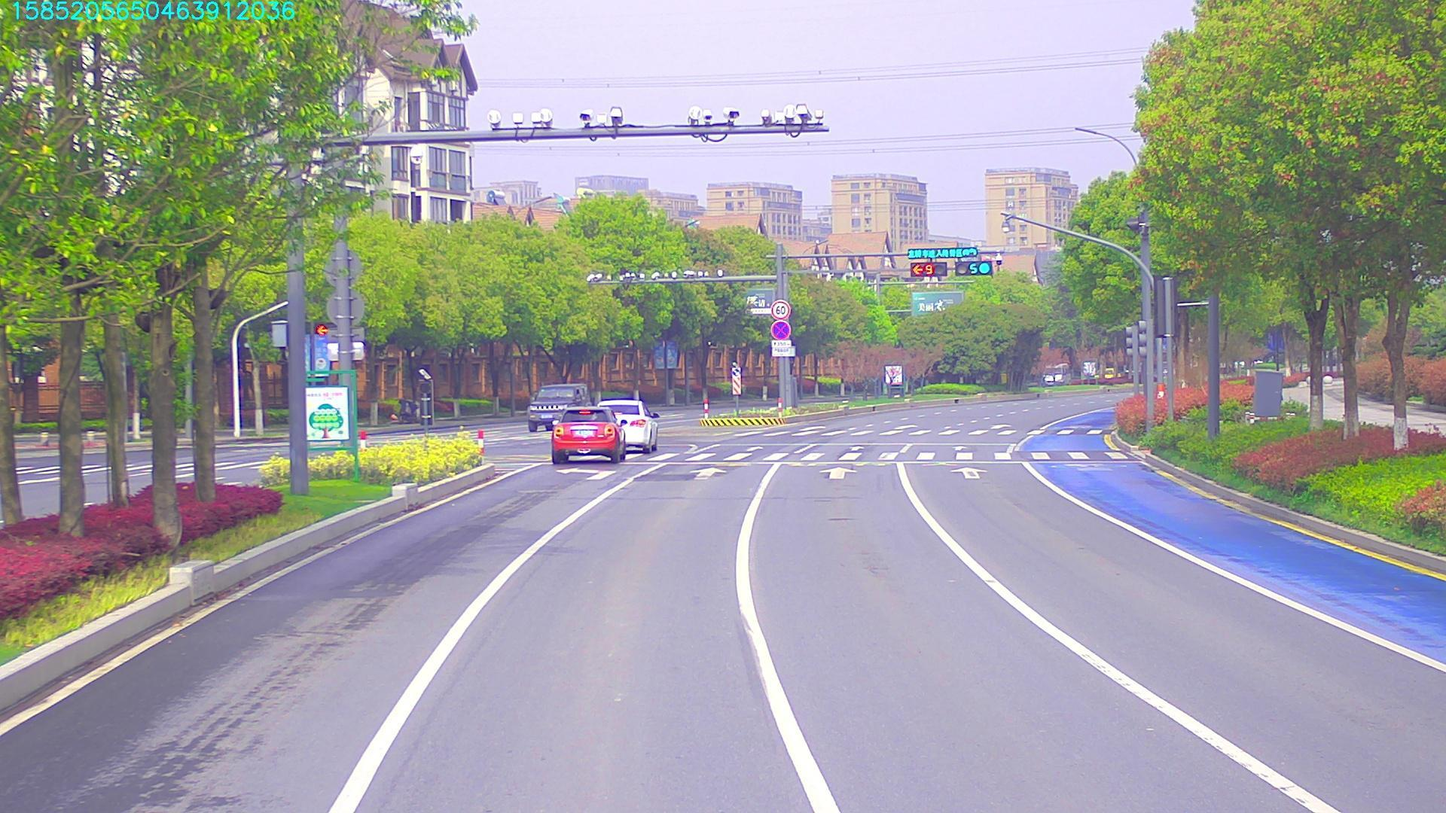green: (957, 263, 990, 279)
red: (911, 262, 943, 278)
wait_on: (908, 245, 981, 253)
